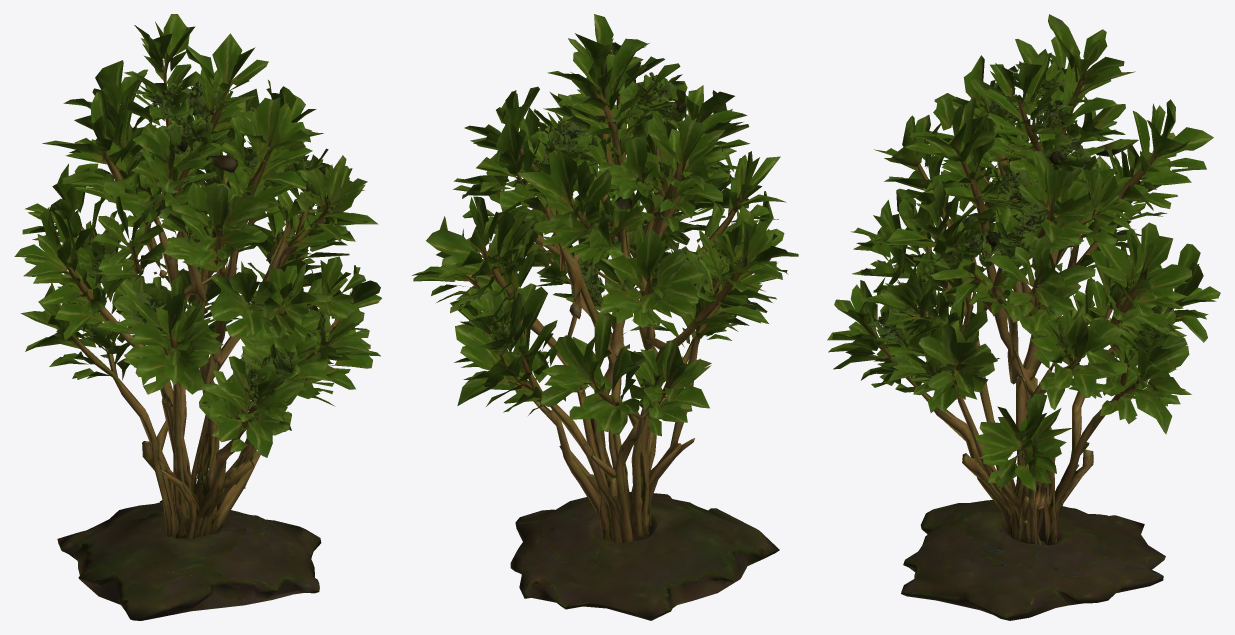
File: nature_tree_laurel.glb
3 renders of one model, left to right at view 1: azimuth 30°, elevation 25°; view 2: azimuth 150°, elevation 25°; view 3: azimuth 270°, elevation 25°, orthographic.
Parts seen in each view (by area): view 1: world; view 2: world; view 3: world.
Boxes of the visible parts, x1,y1,x2,y2 form: world: (14,14,381,620); world: (412,14,798,620); world: (827,14,1220,620).
Size of the model in its own units: 3.09 by 4.5 by 3.
1 material, 1 textured.
